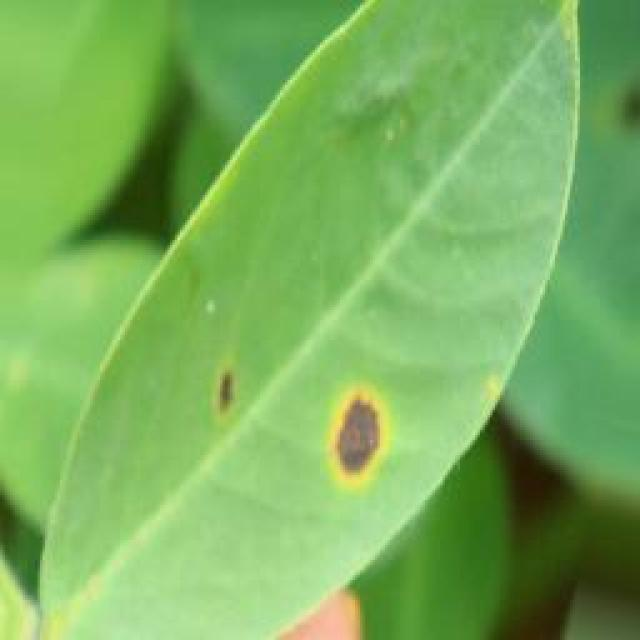Sigatoka: (196, 354, 248, 428)
